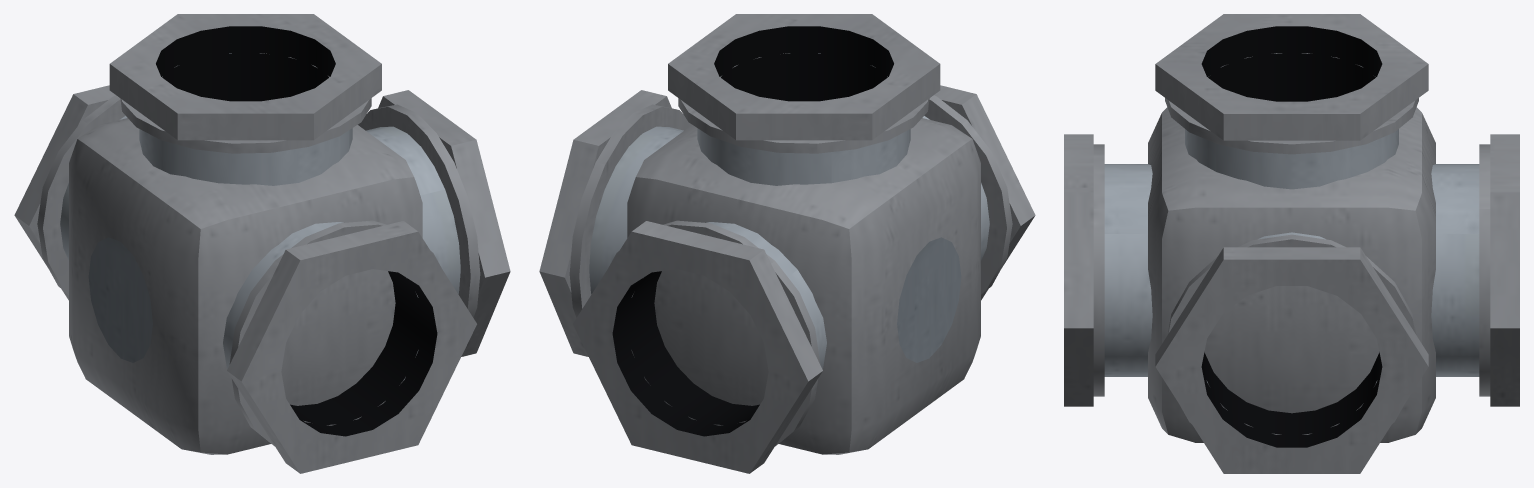
Rendered from small_pipe_four_way_tee.glb.
3 renders of one model, left to right at view 1: azimuth 30°, elevation 25°; view 2: azimuth 150°, elevation 25°; view 3: azimuth 270°, elevation 25°, orthographic.
Parts seen in each view (by area): view 1: Body.006; view 2: Body.006; view 3: Body.006.
Boxes of the visible parts, x1,y1,x2,y2 form: Body.006: (14,14,510,473); Body.006: (539,14,1035,473); Body.006: (1064,14,1519,473).
Size of the model in its own units: 0.202 by 0.202 by 0.247.
4 materials, 3 textured.
